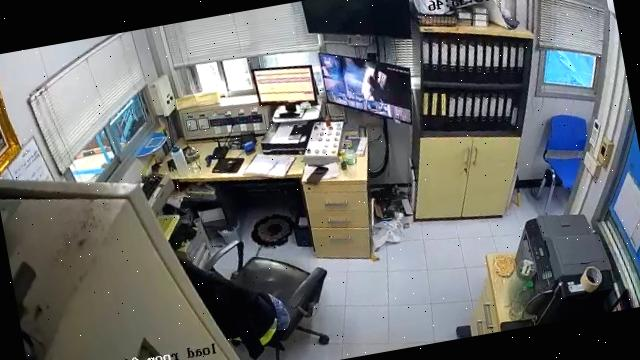Phone: (306, 165, 329, 183)
